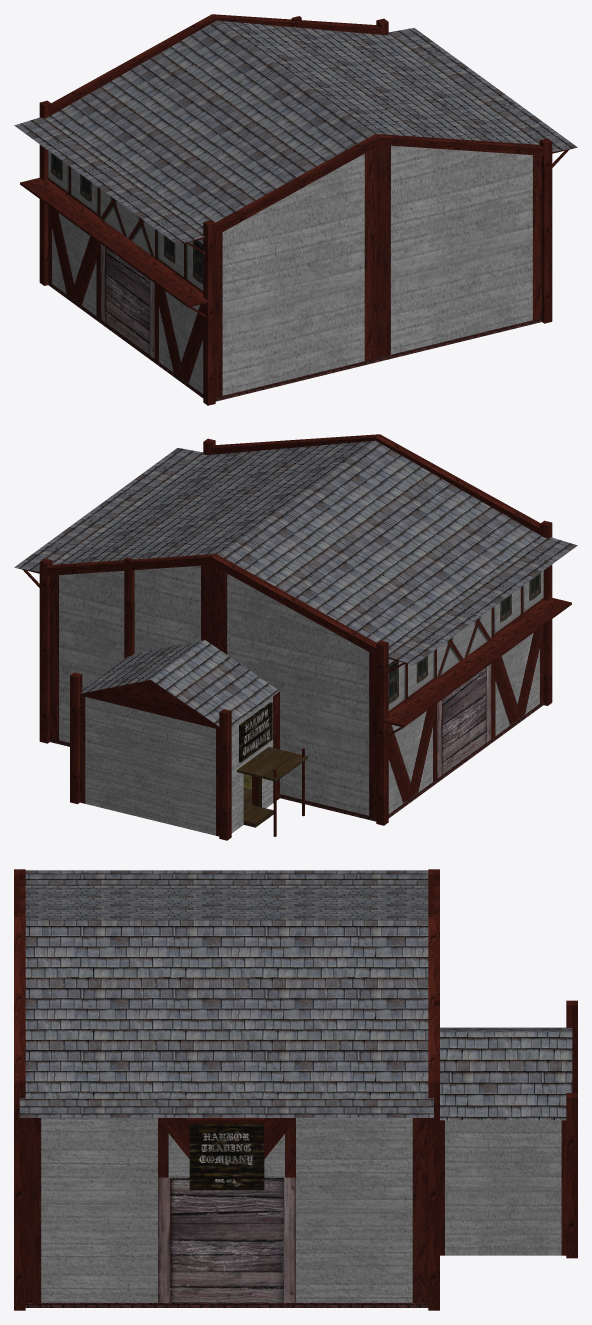
Rendered from tradingCompany.gltf.
3 views of the same model, one above another, from view 1: azimuth 30°, elevation 25°; view 2: azimuth 150°, elevation 25°; view 3: azimuth 270°, elevation 25° (orthographic). The views are drawn at different scales.
Parts seen in each view (by area): view 1: tradingCompany; view 2: tradingCompany; view 3: tradingCompany.
Boxes of the visible parts, x1,y1,x2,y2 form: tradingCompany: (14,14,577,405); tradingCompany: (14,434,577,840); tradingCompany: (14,869,577,1310).
Bounding box in the file's own units: 25.44 × 13.75 × 24.5.
20 materials, 20 textured.
